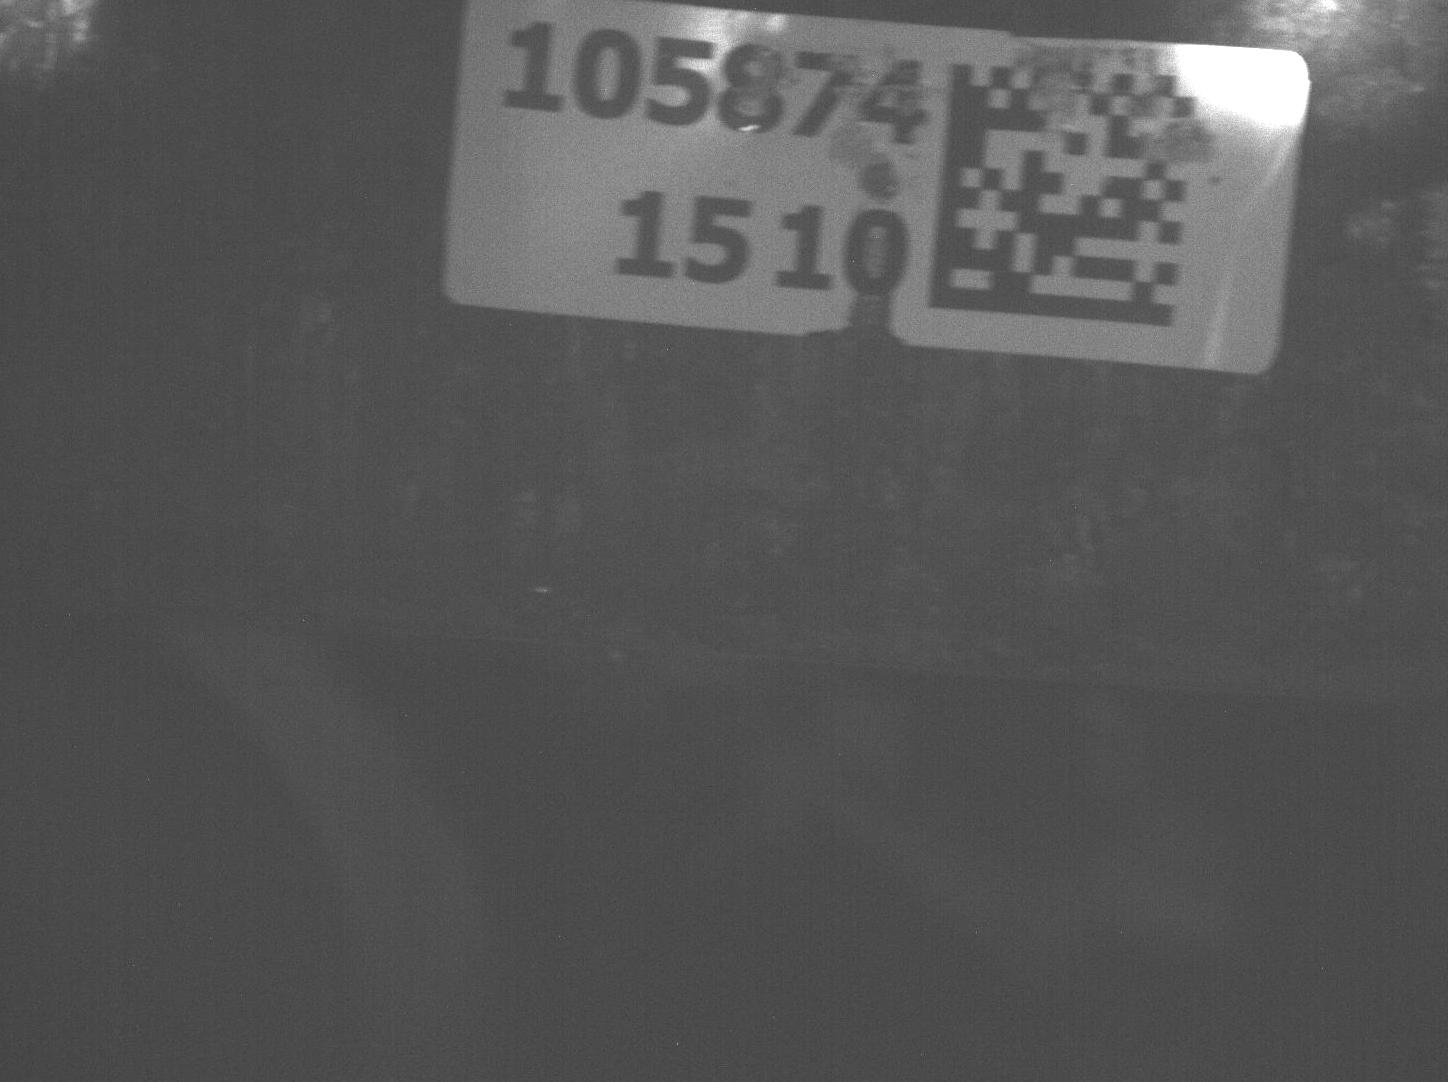data matrix: (912, 45, 1234, 342)
